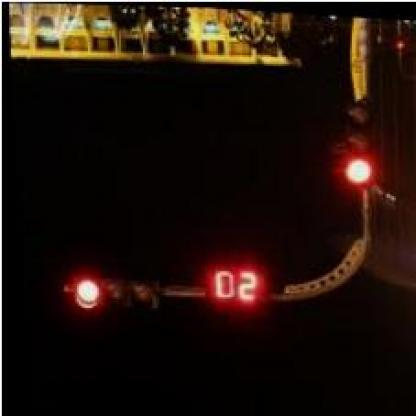red: (336, 92, 380, 187), (65, 275, 155, 315)
